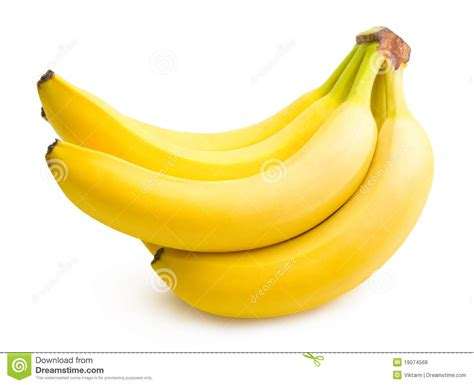banana: (143, 105, 438, 325), (44, 90, 379, 257), (32, 67, 354, 173)
